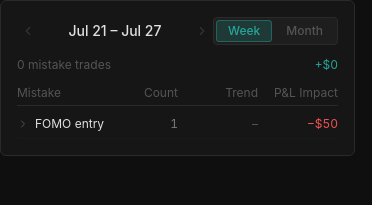
MistakeReviewPanel — expand to trades › collapses the trade list on a second click
The width and height of the screenshot is (372, 205).
Click the button "FOMO entry 1 – −$50" at (178,124), box left=17, top=110, right=338, bottom=138
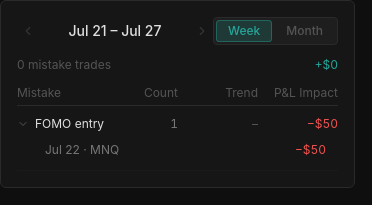
Check: the link "Jul 22 · MNQ −$50" is shown, box left=37, top=138, right=334, bottom=162
Click the button "FOMO entry 1 – −$50" at (178,124), box left=17, top=110, right=338, bottom=138
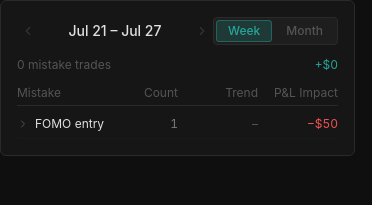
Check: the link "Jul 22 · MNQ −$50" is gone
